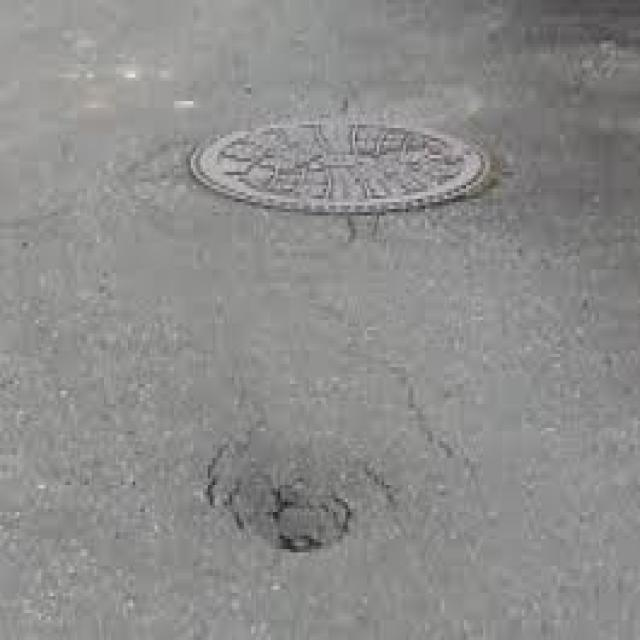manhole: (187, 116, 490, 212)
